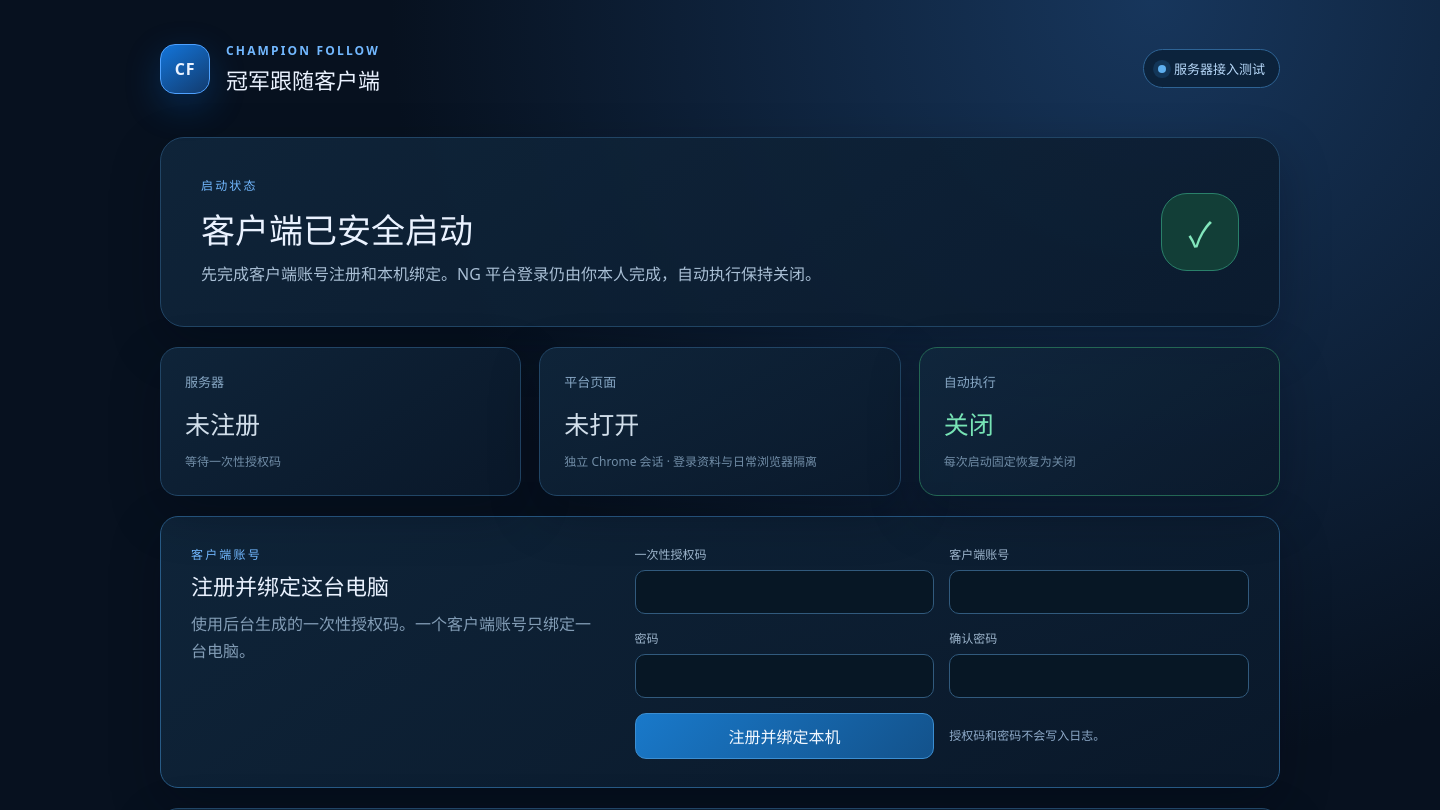
Test: App registration state › shows a success dialog and authenticated state after registration
Step 1. Type "aaaaaaaaaaaaaaaaaaaaaaaaaaaaaaaaaaaaaaaaaaaaaaaa" into the field labelled "一次性授权码" → [784, 592], box left=635, top=570, right=934, bottom=614
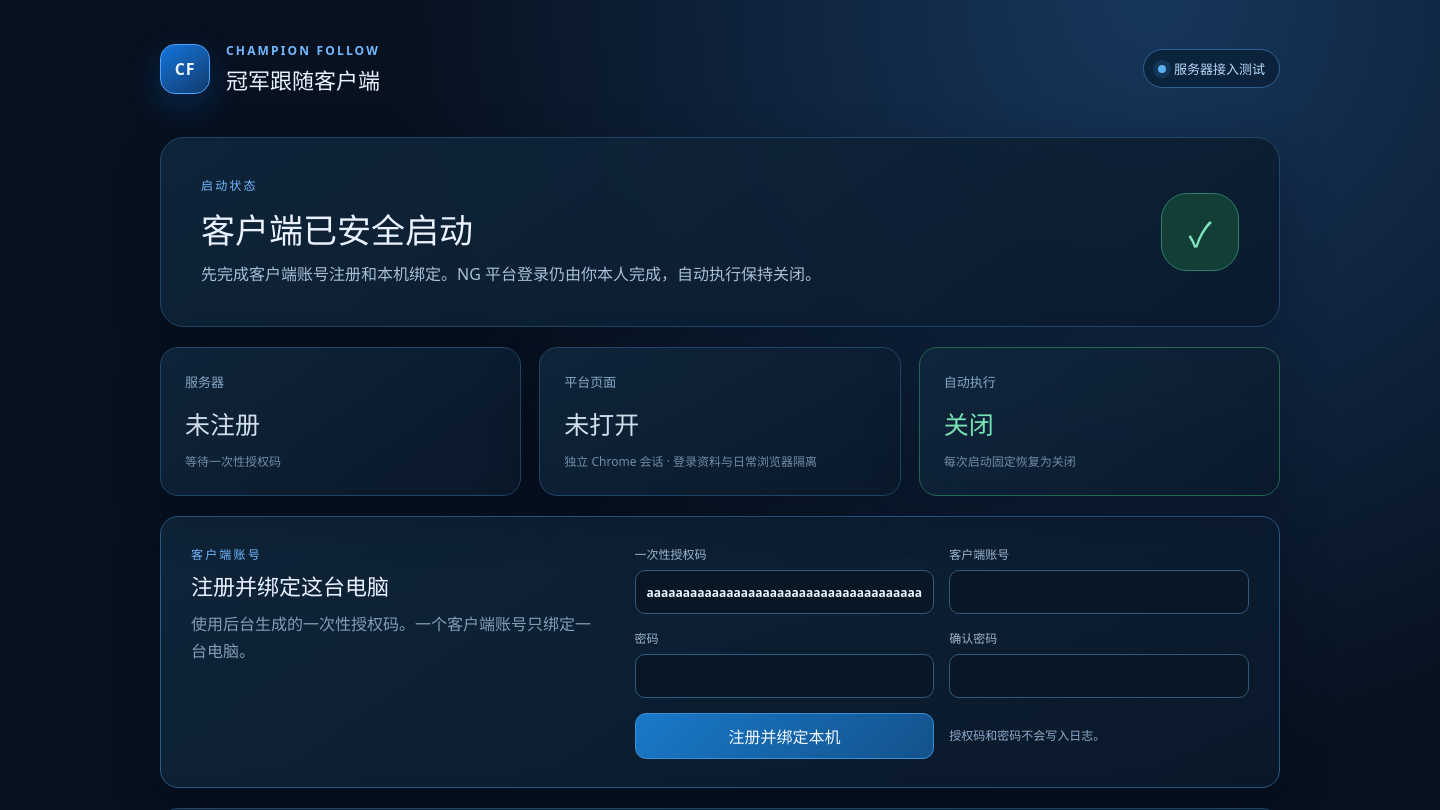
Step 2. Type "client-user" into the field labelled "客户端账号" → [1099, 592], box left=949, top=570, right=1249, bottom=614
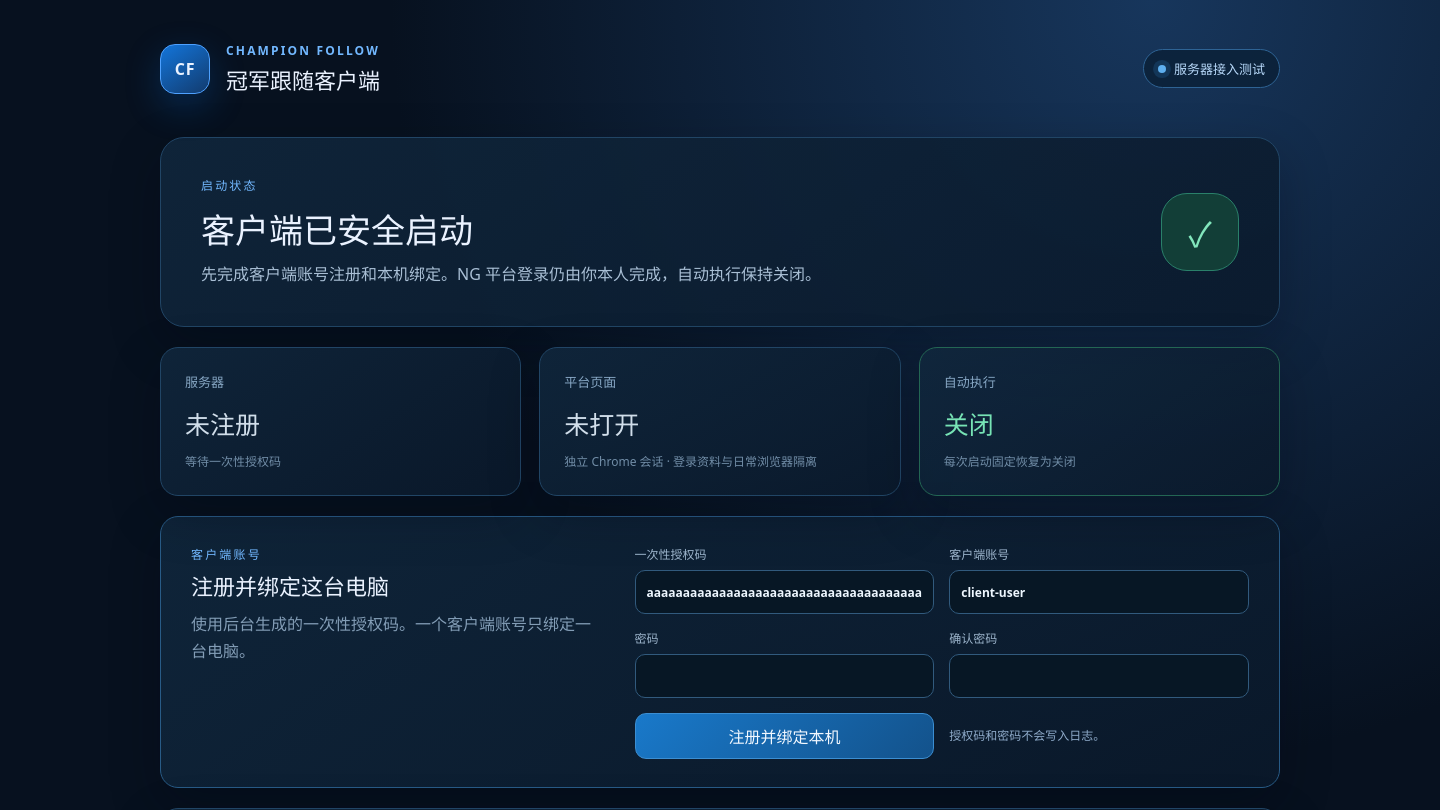
Step 3. Type "example-password" into the password field labelled "密码" → [784, 676], box left=635, top=654, right=934, bottom=698
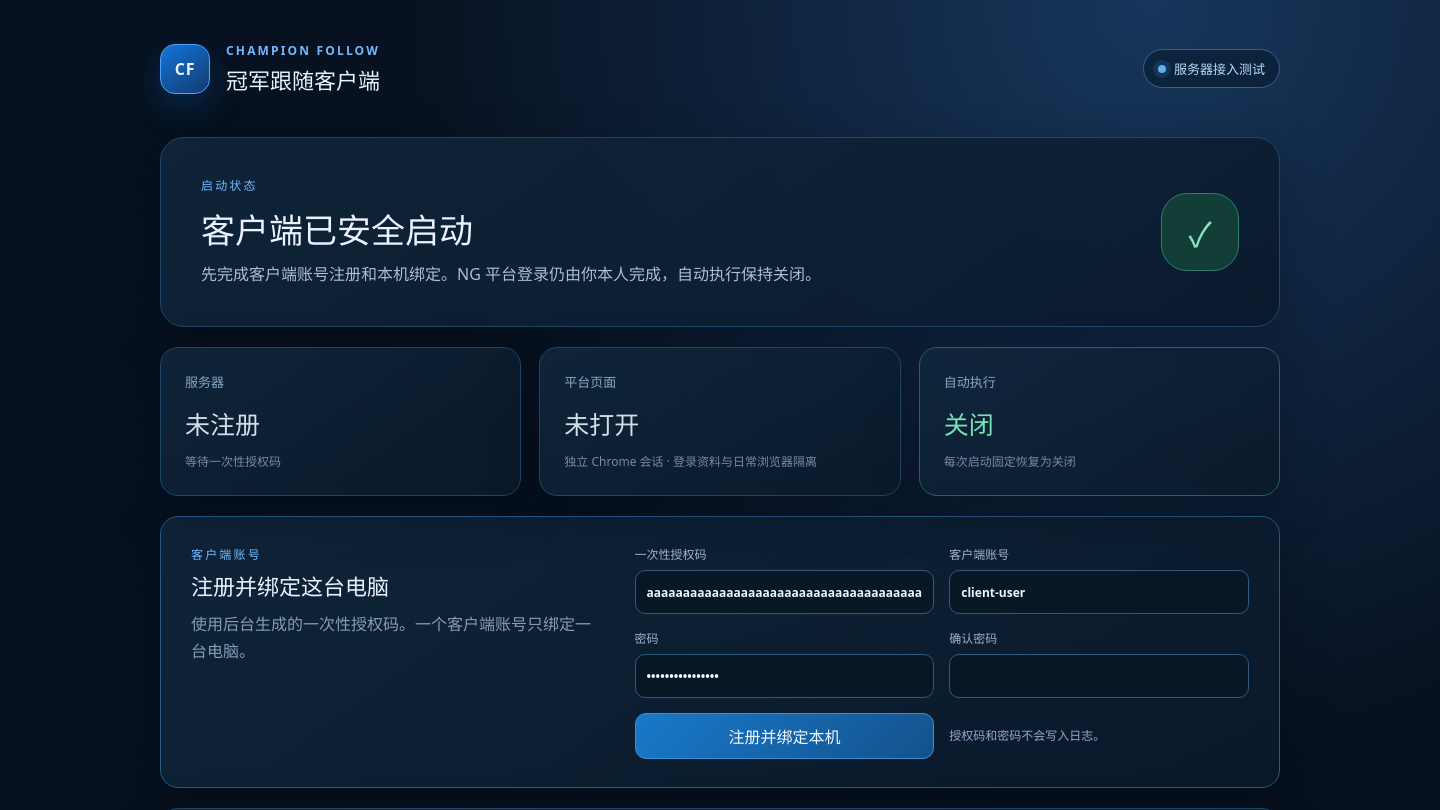
Step 4. Type "example-password" into the password field labelled "确认密码" → [1099, 676], box left=949, top=654, right=1249, bottom=698
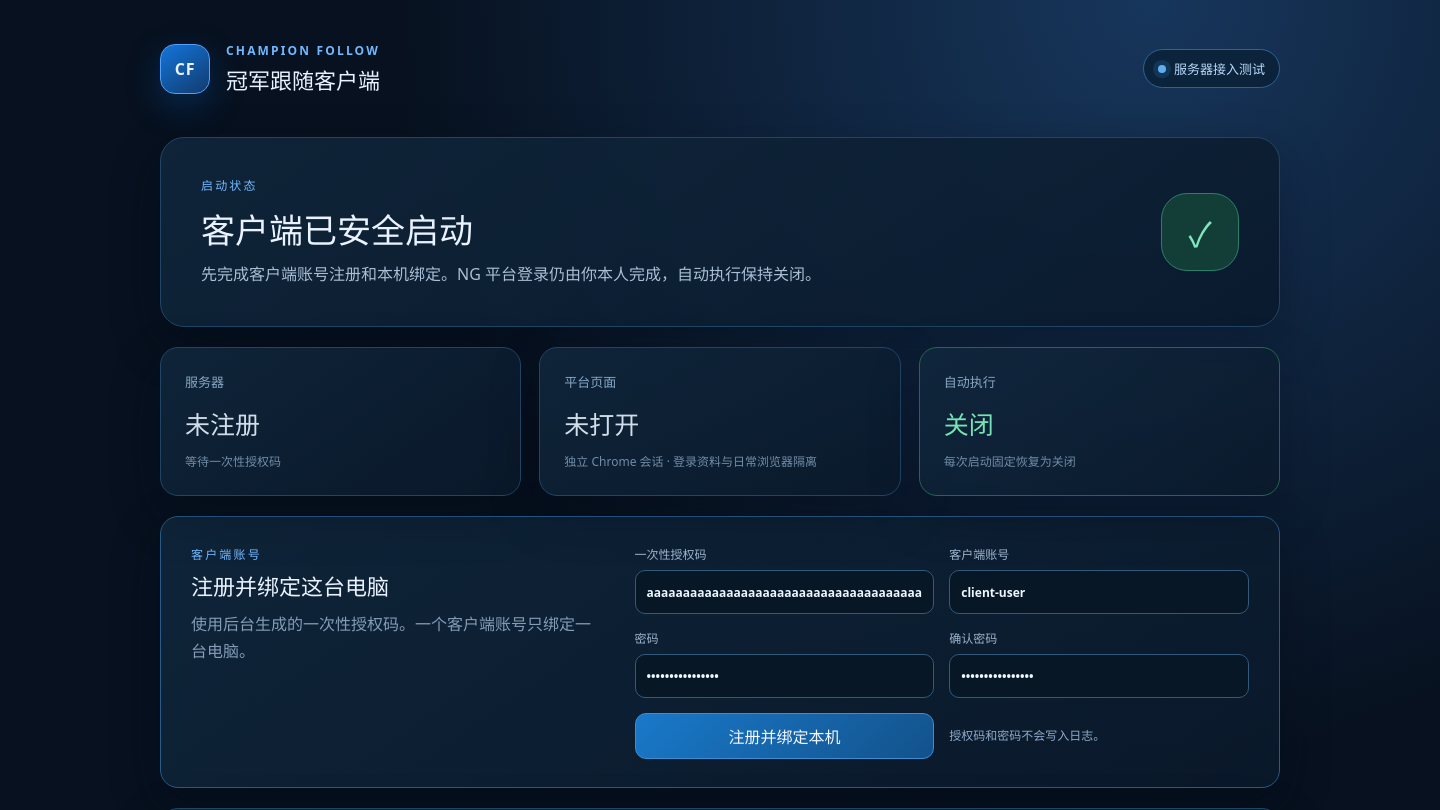
Step 5. Click the button "注册并绑定本机" → [784, 736], box left=635, top=713, right=934, bottom=759
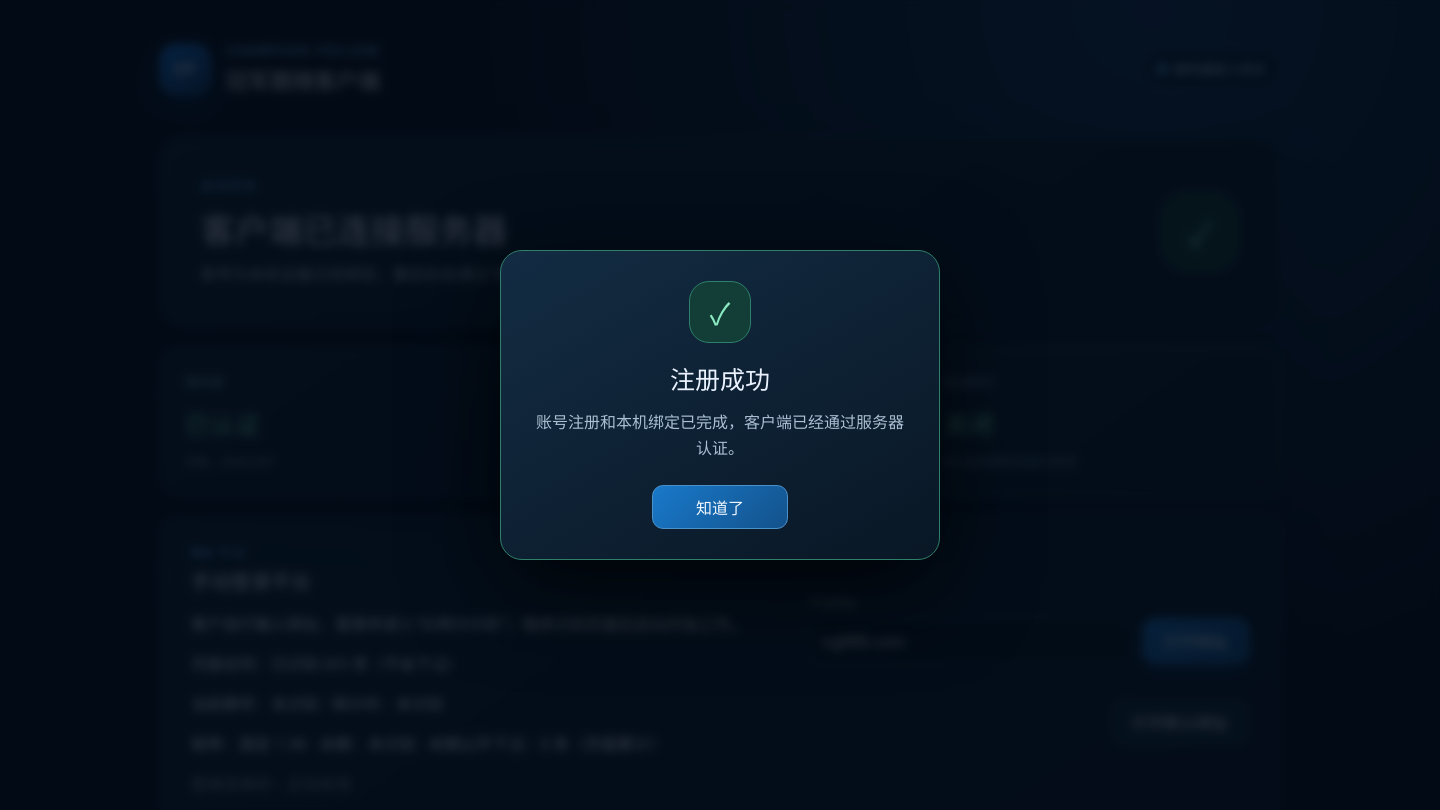
Now the dialog "注册成功" shows "账号注册和本机绑定已完成", box left=536, top=411, right=904, bottom=459
